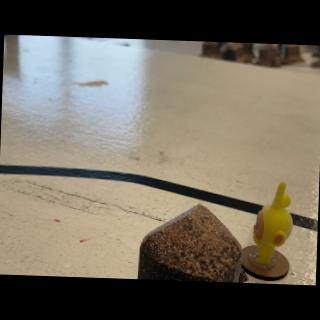teletubby: (253, 183, 293, 265)
